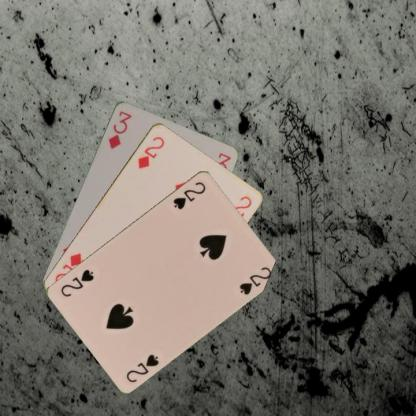2d: (134, 133, 166, 170)
2s: (170, 178, 208, 211), (124, 351, 160, 384)
3d: (105, 108, 133, 150)
